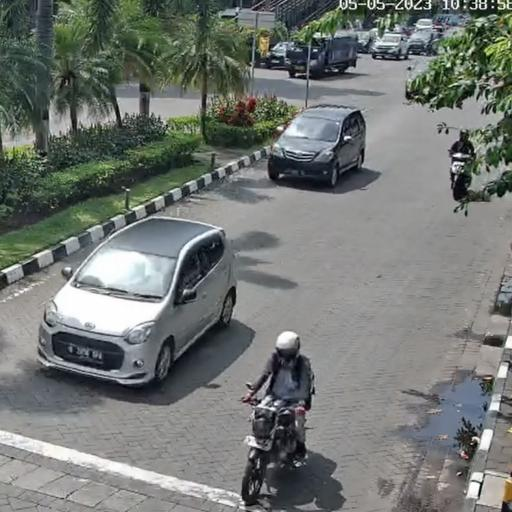mobil: (38, 215, 237, 393), (267, 106, 366, 188)
motor: (234, 377, 315, 504), (446, 148, 481, 206)
